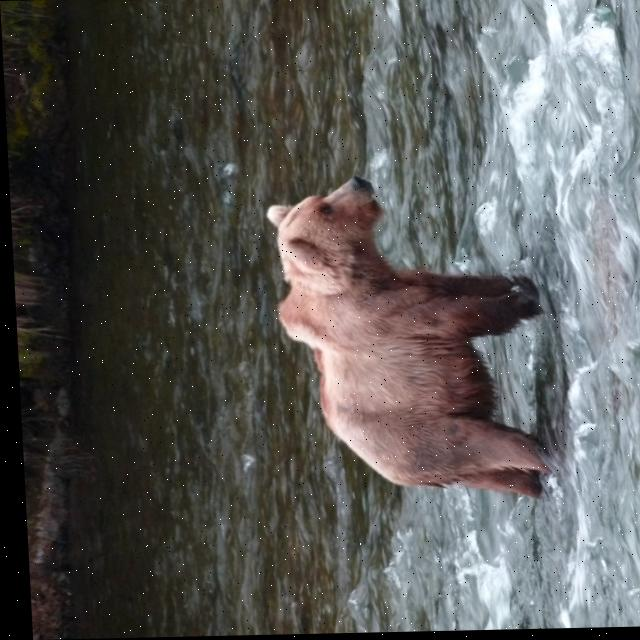bear face: (264, 174, 537, 498)
